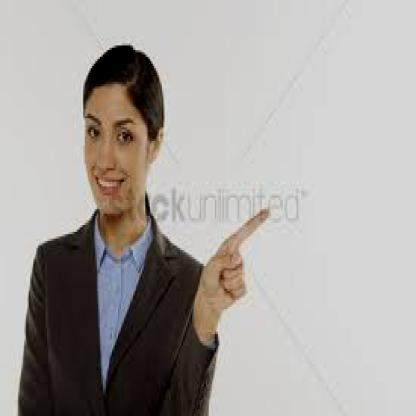Left: (205, 183, 275, 308)
